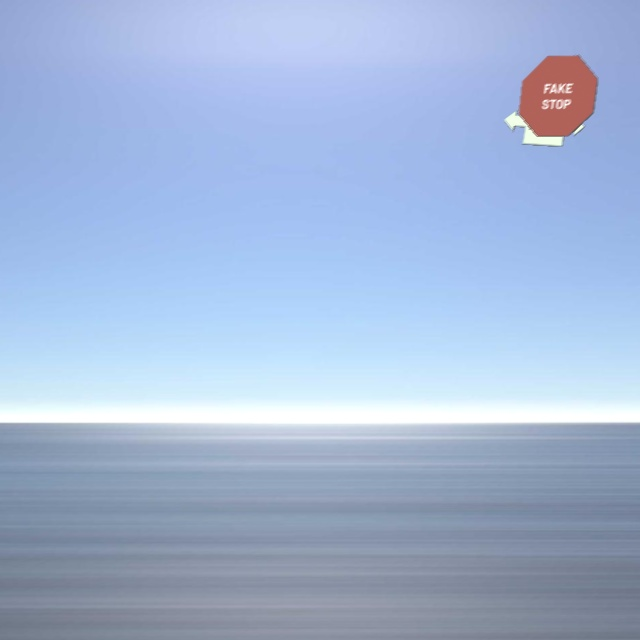FAKE_STOP: (518, 54, 598, 136)
GO_AROUND: (503, 99, 585, 146)
